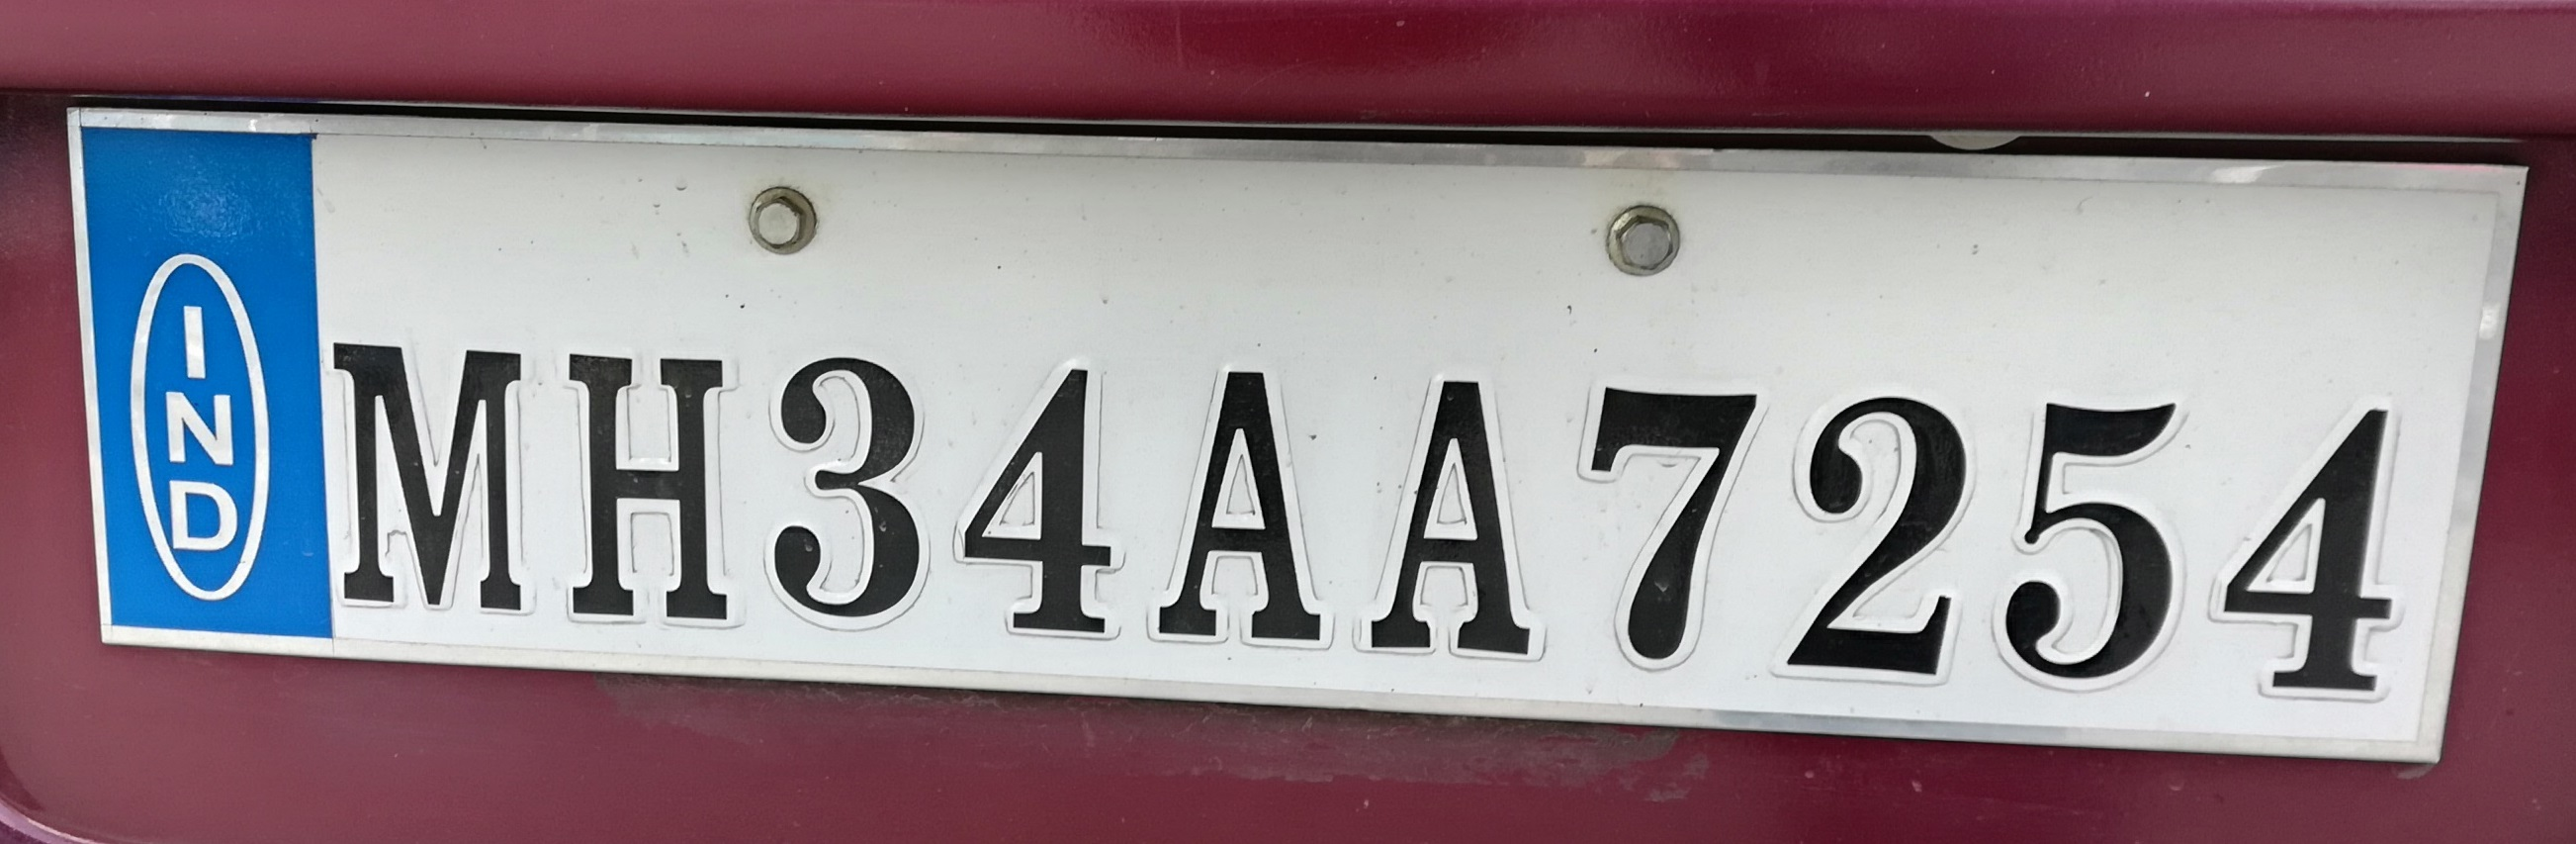numberplate: (60, 103, 2540, 785)
